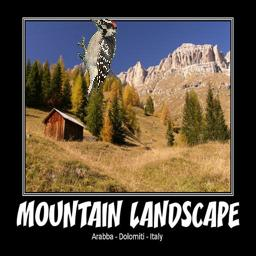Woodpecker: (77, 19, 119, 104)
